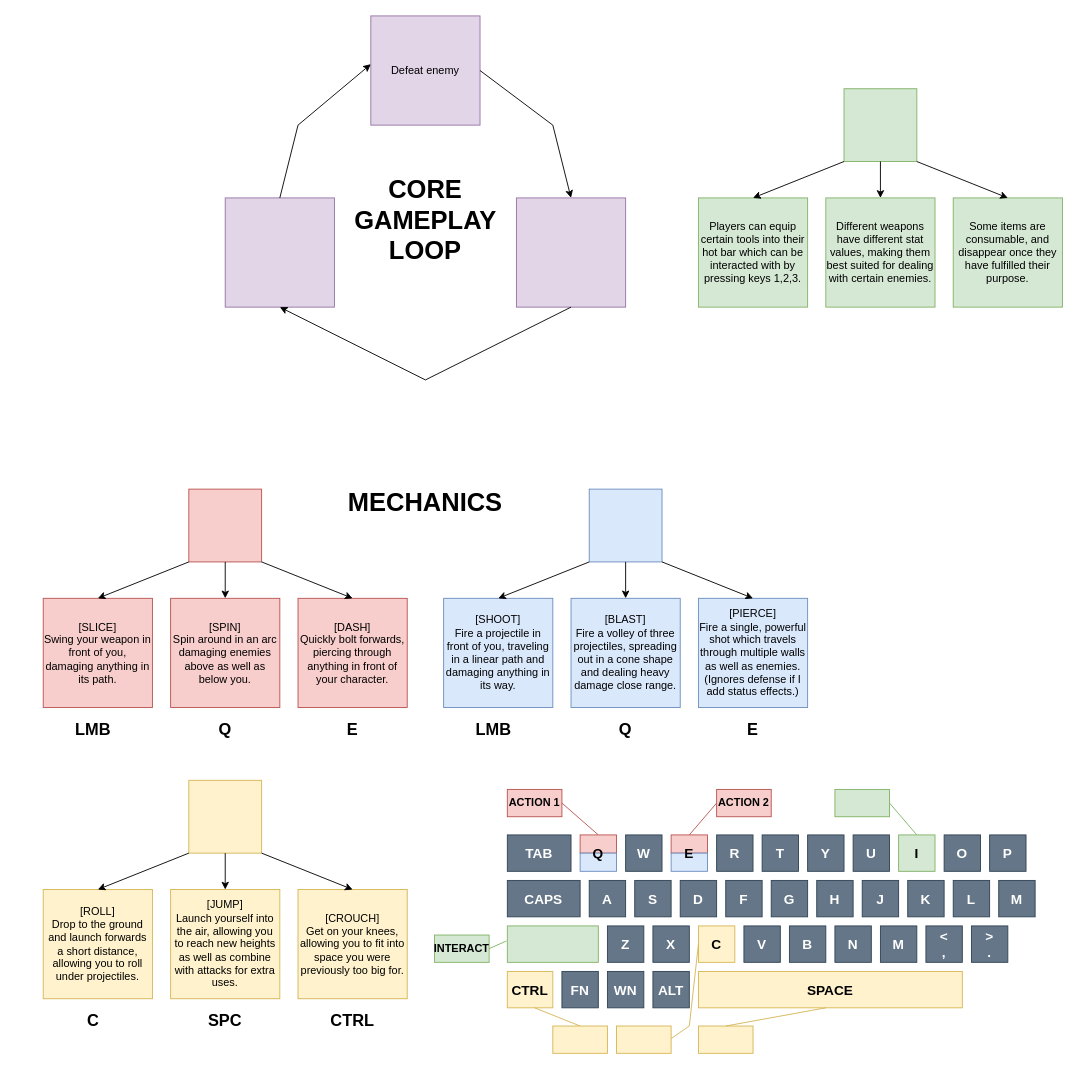
The diagram is 1078 pixels wide and 1069 high, and some of its shapes have lost their labels. The shapes that lost their labels are listed below. From the top down, each one's centre as x and y in pixels, then its label:
the point at 880,125: EQUIPMENT
the point at 279,252: Spend Currency On Upgrades/Abilities
the point at 571,252: Gain Currency/Loot
the point at 225,525: MELEE ATTACKS
the point at 625,525: RANGED ATTACKS
the point at 225,816: MOVEMENT TECH
the point at 862,803: OPEN INV
the point at 552,943: SHIFT
the point at 579,1039: CROUCH
the point at 643,1039: ROLL
the point at 725,1039: JUMP
